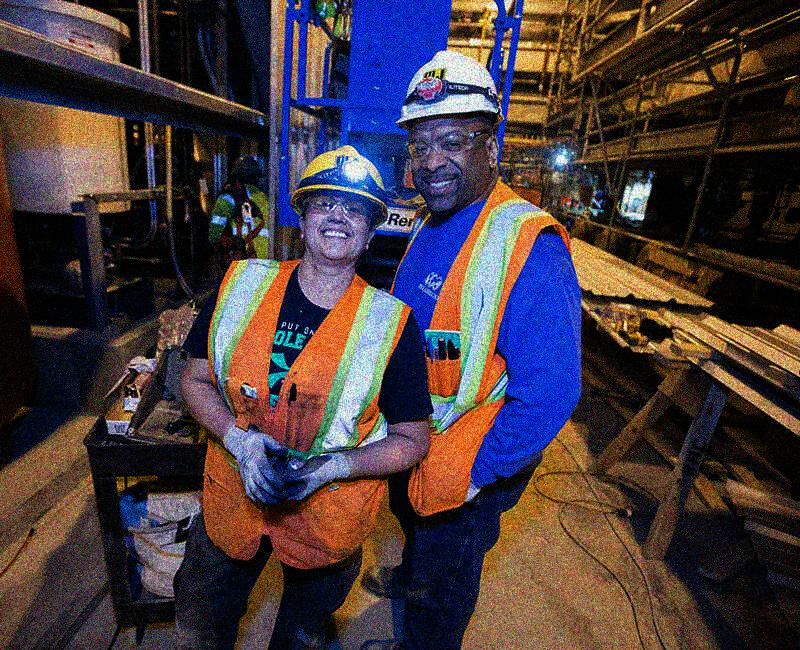helmet: (392, 49, 504, 214), (289, 142, 391, 267), (227, 153, 268, 192)
